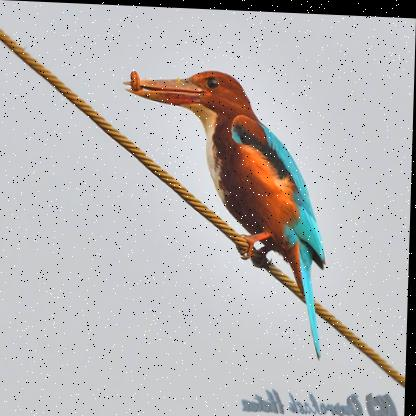Burung: (118, 66, 331, 357)
